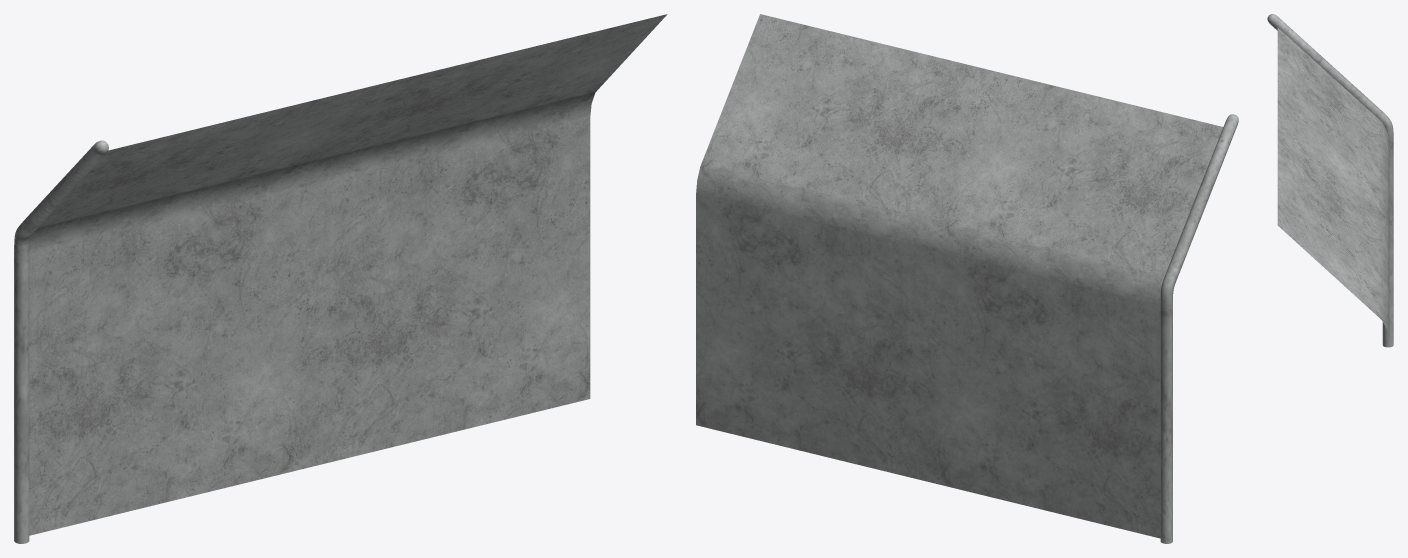
File: Fence_1.fbx
The picture shows the model from 3 angles, left to right: view 1: azimuth 30°, elevation 25°; view 2: azimuth 150°, elevation 25°; view 3: azimuth 270°, elevation 25°; orthographic projection. The views are drawn at different scales.
Parts seen in each view (by area): view 1: Fence_1; view 2: Fence_1; view 3: Fence_1.
Boxes of the visible parts, x1,y1,x2,y2 form: Fence_1: (14,14,667,543); Fence_1: (696,14,1238,543); Fence_1: (1267,14,1393,347).
Size of the model in its own units: 3 by 2.28 by 0.7902.
2 materials, 2 textured.
